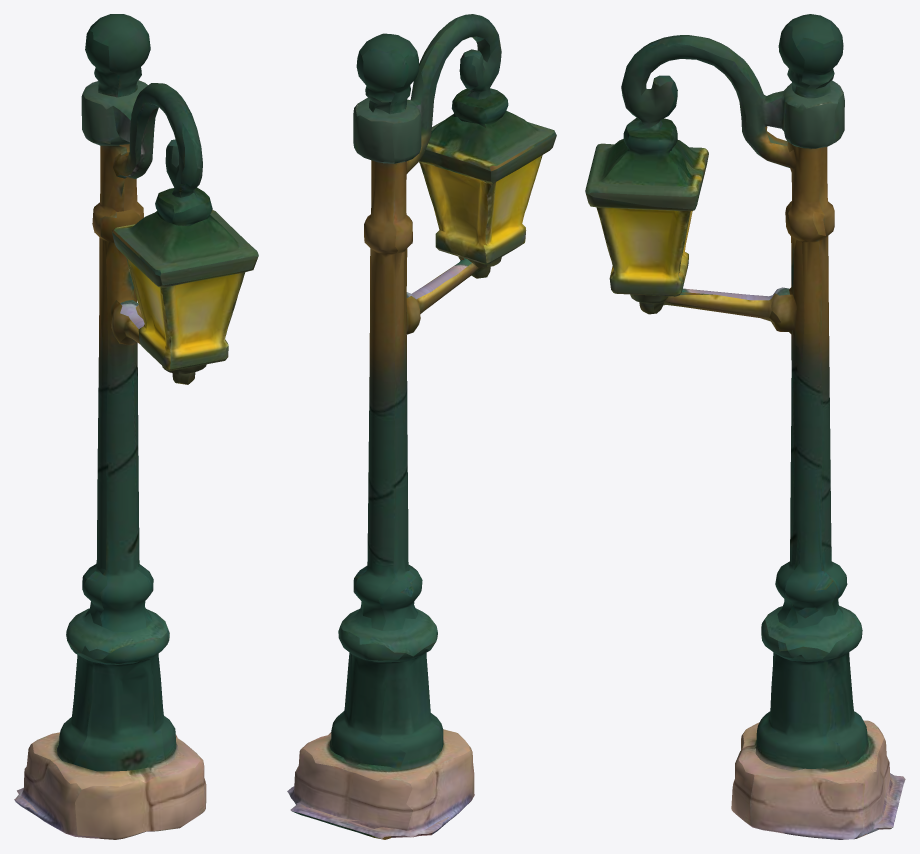
Rendered from lantern.glb.
3 renders of one model, left to right at view 1: azimuth 30°, elevation 25°; view 2: azimuth 150°, elevation 25°; view 3: azimuth 270°, elevation 25°, orthographic. The views are drawn at different scales.
Parts seen in each view (by area): view 1: lantern_s15; view 2: lantern_s15; view 3: lantern_s15.
Part boxes in pixels (x1,y1,x2,y2): lantern_s15: (14, 14, 258, 839); lantern_s15: (287, 14, 556, 839); lantern_s15: (585, 14, 905, 839).
Size of the model in its own units: 0.2102 by 1 by 0.3706.
Materials: 1 (1 with a texture image).
